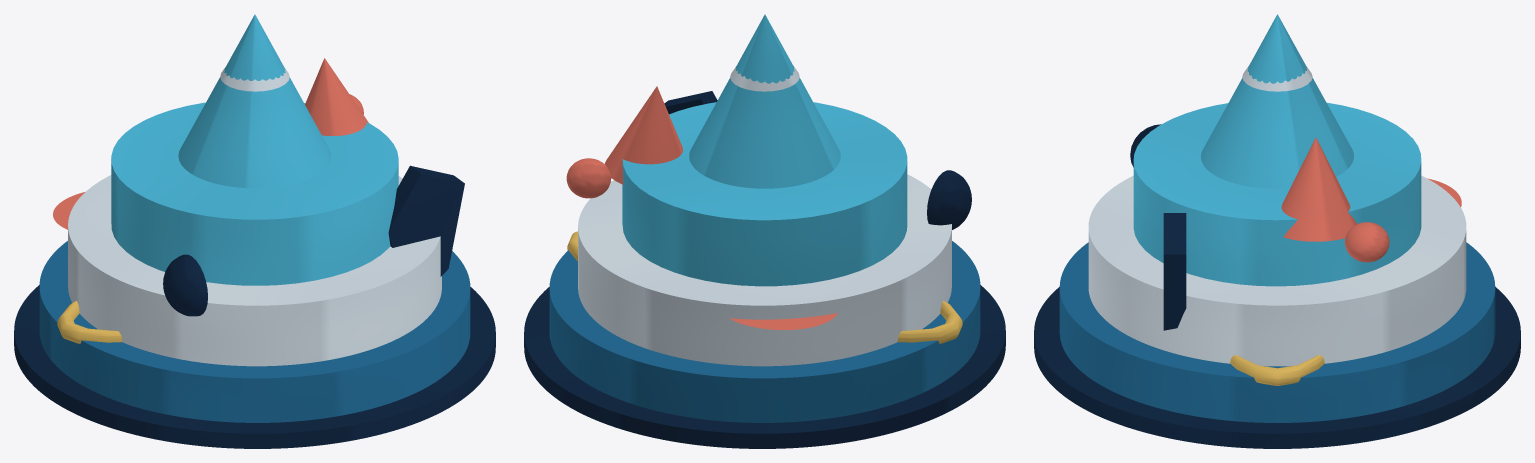
File: 0629_地貌图鉴_夏威夷群岛.glb
3 views of the same model, side by side, from view 1: azimuth 30°, elevation 25°; view 2: azimuth 150°, elevation 25°; view 3: azimuth 270°, elevation 25° (orthographic).
Visible parts, largest first — view 1: card_0629; view 2: card_0629; view 3: card_0629.
Part boxes in pixels (box(x1,y1,x2,y2)): card_0629: box(14, 14, 495, 448); card_0629: box(524, 14, 1005, 448); card_0629: box(1034, 14, 1520, 448).
Bounding box in the file's own units: 1.31 × 1 × 1.32.
